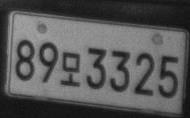2: (133, 51, 155, 96)
3: (108, 49, 130, 92), (86, 47, 106, 89)
5: (157, 55, 178, 98)
8: (14, 38, 35, 81)
9: (38, 41, 59, 83)
모: (60, 51, 81, 87)
